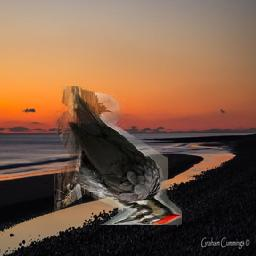Woodpecker: (54, 87, 182, 226)
